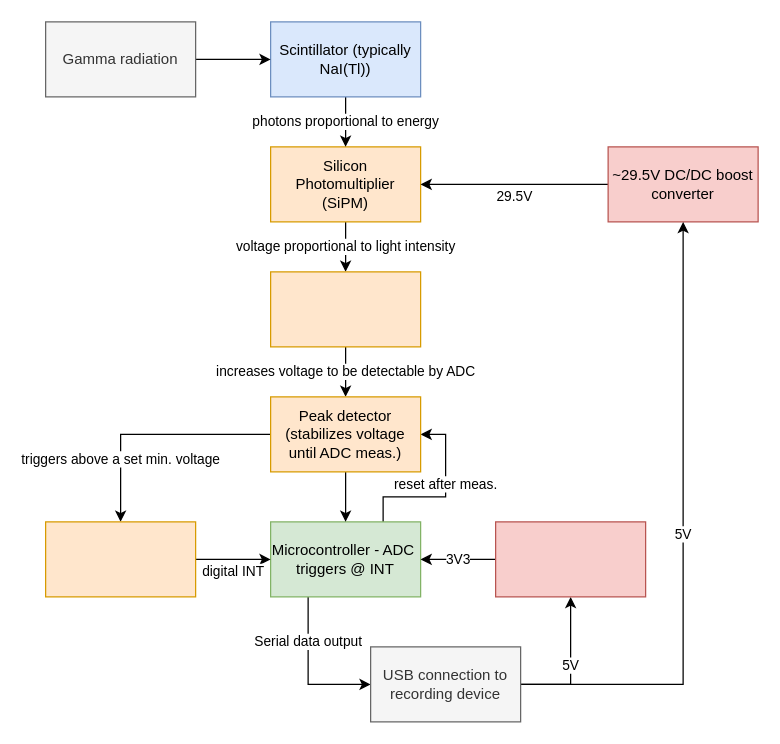
This 780x744 diagram has some shape labels left out. The centre of each missing label's shape, as x and y in pixels:
"3V3 LDO regulator" goes at (570,559).
"Comparator" goes at (120,559).
"Non-inverting operational amplifier" goes at (345,309).
